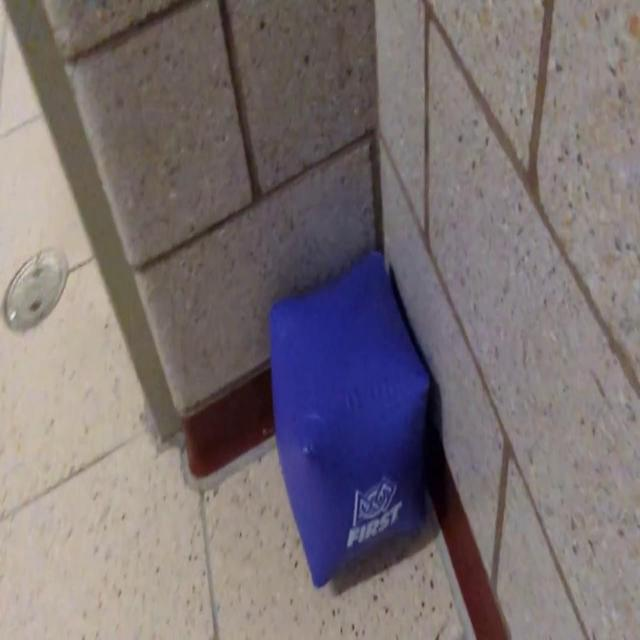frc_cube: (272, 255, 430, 585)
